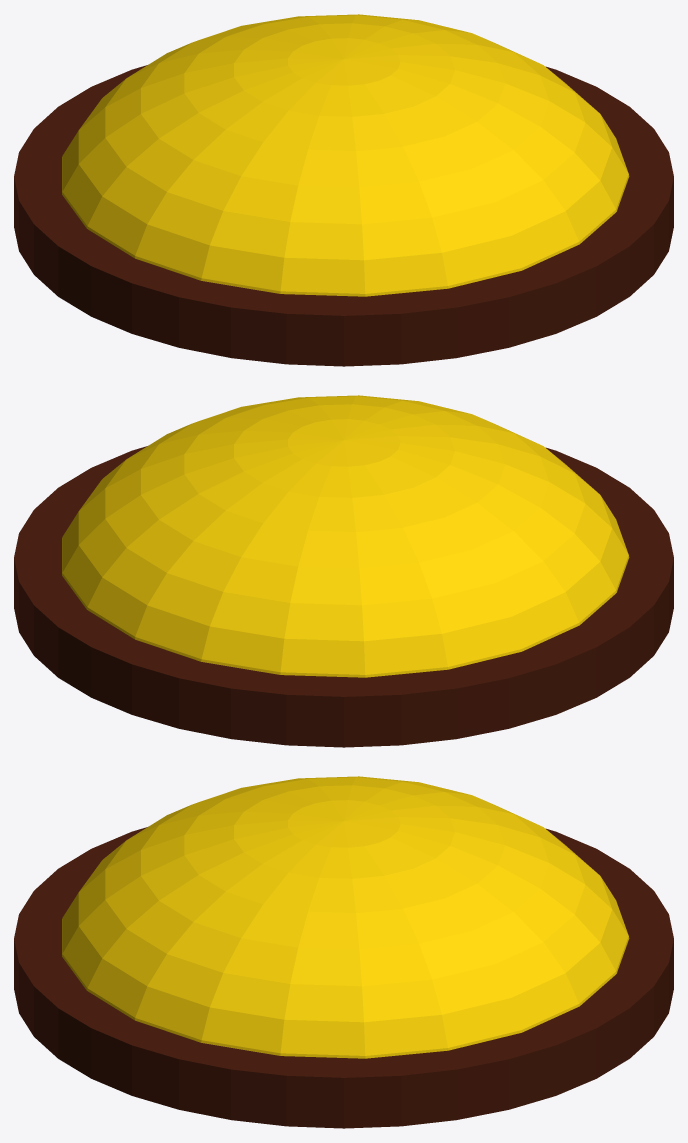
File: Lamp.fbx
3 renders of one model, top to bottom at view 1: azimuth 30°, elevation 25°; view 2: azimuth 150°, elevation 25°; view 3: azimuth 270°, elevation 25°, orthographic.
Visible parts, largest first — view 1: Sphere, Cylinder; view 2: Sphere, Cylinder; view 3: Sphere, Cylinder.
Part boxes in pixels (x1,y1,x2,y2): Sphere: (62, 14, 629, 296); Cylinder: (14, 65, 673, 366); Sphere: (62, 395, 629, 677); Cylinder: (14, 446, 673, 747); Sphere: (62, 776, 629, 1058); Cylinder: (14, 827, 673, 1128).
Size of the model in its own units: 200 by 56.12 by 200.
